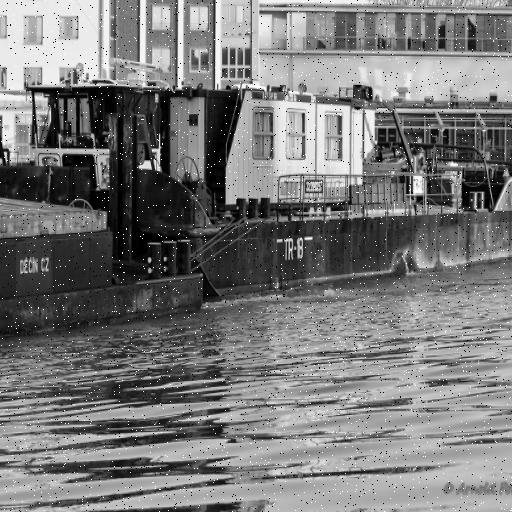tugboat: (1, 53, 512, 312)
